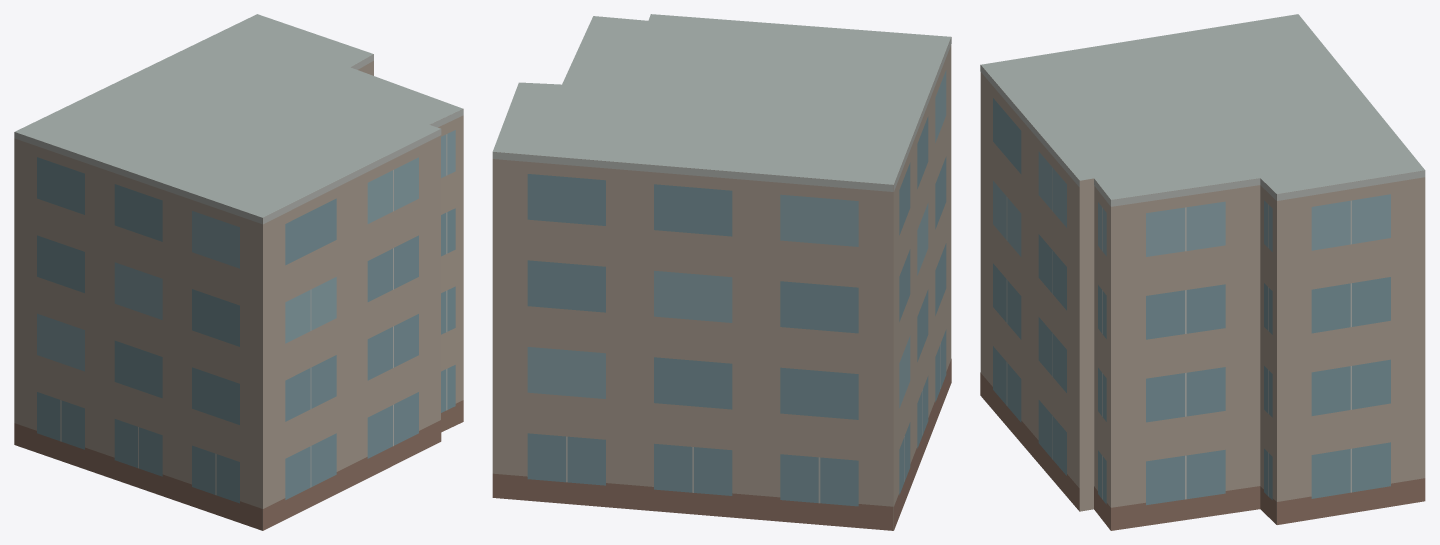
The model's file is survey-upis-32851525.glb.
The picture shows the model from 3 angles, left to right: view 1: azimuth 30°, elevation 25°; view 2: azimuth 150°, elevation 25°; view 3: azimuth 270°, elevation 25°; orthographic projection. The views are drawn at different scales.
Visible parts, largest first — view 1: survey-upis-32851525.tmp; view 2: survey-upis-32851525.tmp; view 3: survey-upis-32851525.tmp.
Part boxes in pixels (x1=…): survey-upis-32851525.tmp: x1=14, y1=14, x2=463, y2=530; survey-upis-32851525.tmp: x1=492, y1=14, x2=951, y2=530; survey-upis-32851525.tmp: x1=980, y1=14, x2=1425, y2=530.
Bounding box in the file's own units: 14.11 × 11.7 × 14.26.
